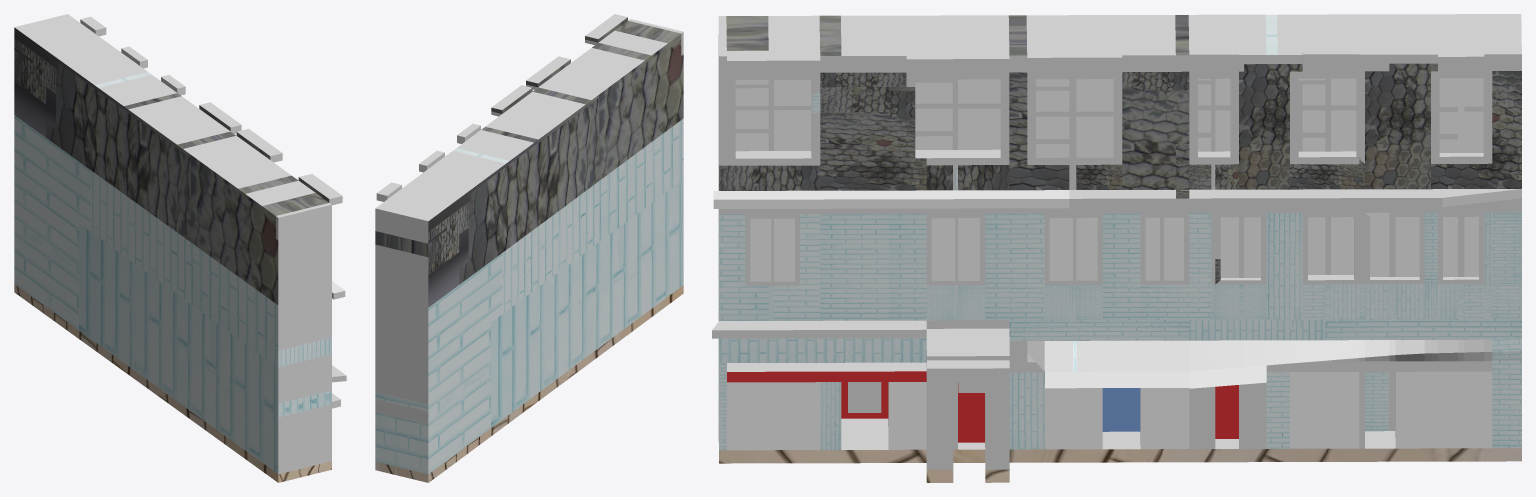
3 renders of one model, left to right at view 1: azimuth 30°, elevation 25°; view 2: azimuth 150°, elevation 25°; view 3: azimuth 270°, elevation 25°, orthographic. The views are drawn at different scales.
Parts seen in each view (by area): view 1: Cube; view 2: Cube; view 3: Cube.
Boxes of the visible parts, bbox=[...] form: Cube: bbox=[14, 14, 346, 482]; Cube: bbox=[375, 14, 683, 482]; Cube: bbox=[712, 14, 1521, 482].
Size of the model in its own units: 14.88 by 41.28 by 73.22.
Materials: 10 (3 with a texture image).
